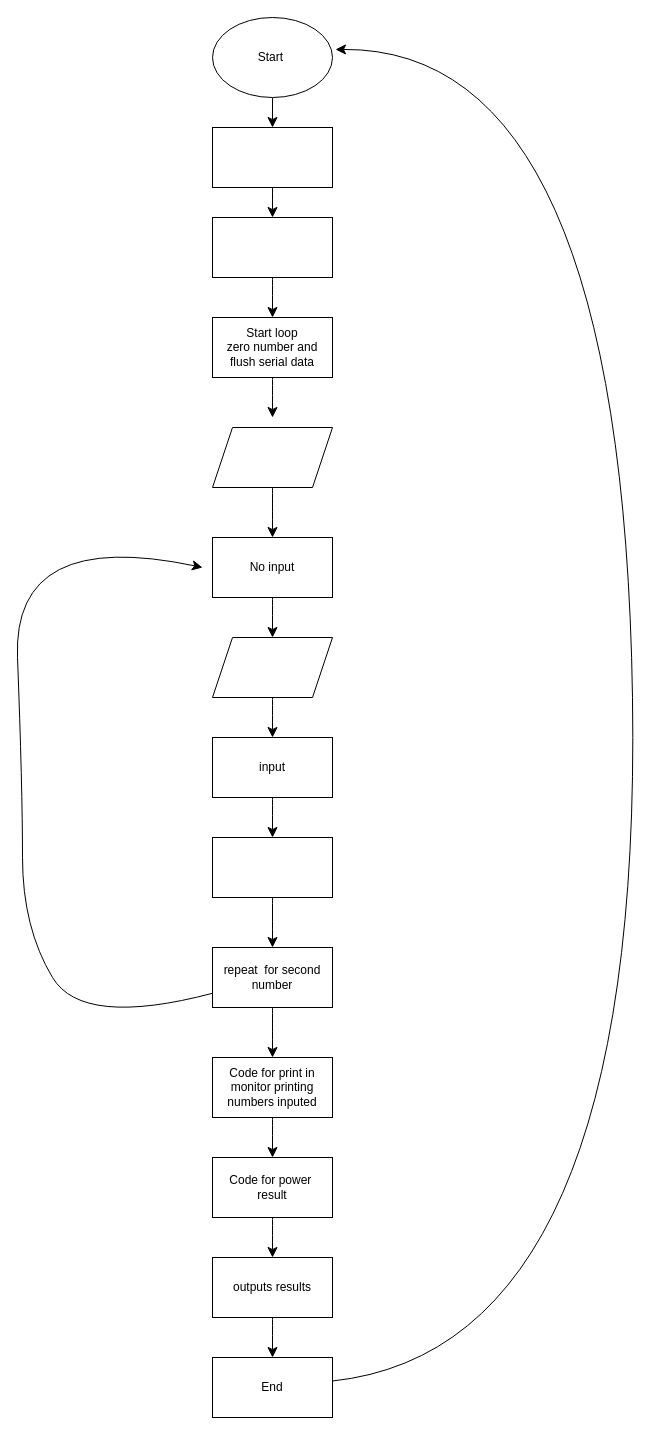
Some shapes in this 651 by 1435 pixel diagram are drawn without their labels. Each missing label, with the centre of its shape:
Begin serial data.: point 272,247
Declare Variables number1/2, a, and b: point 272,157
input = input x 10 a = input + a: point 272,867
while for input of data: point 272,667
while loop to do nothing for no data coming in: point 272,457
